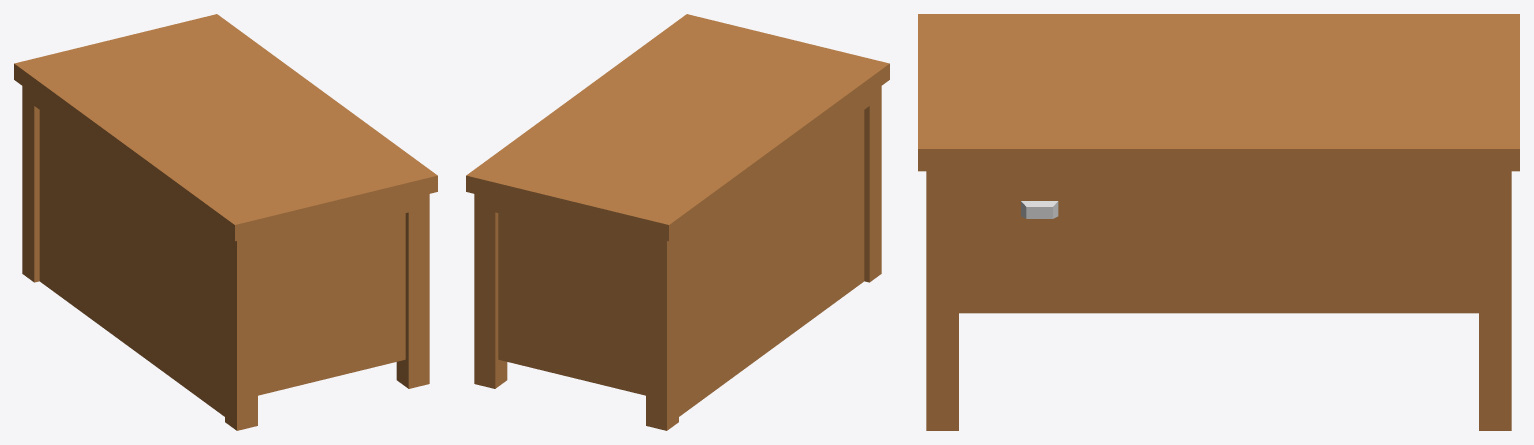
File: desk-transformed.glb
The picture shows the model from 3 angles, left to right: view 1: azimuth 30°, elevation 25°; view 2: azimuth 150°, elevation 25°; view 3: azimuth 270°, elevation 25°; orthographic projection. The views are drawn at different scales.
Parts seen in each view (by area): view 1: Desk; view 2: Desk; view 3: Desk, DeskDrawer.002.
Part boxes in pixels (x1=…): Desk: x1=14, y1=14, x2=437, y2=430; Desk: x1=466, y1=14, x2=889, y2=430; Desk: x1=918, y1=14, x2=1519, y2=430; DeskDrawer.002: x1=959, y1=190, x2=1120, y2=227.
Bounding box in the file's own units: 1.37 × 1.34 × 2.56.
